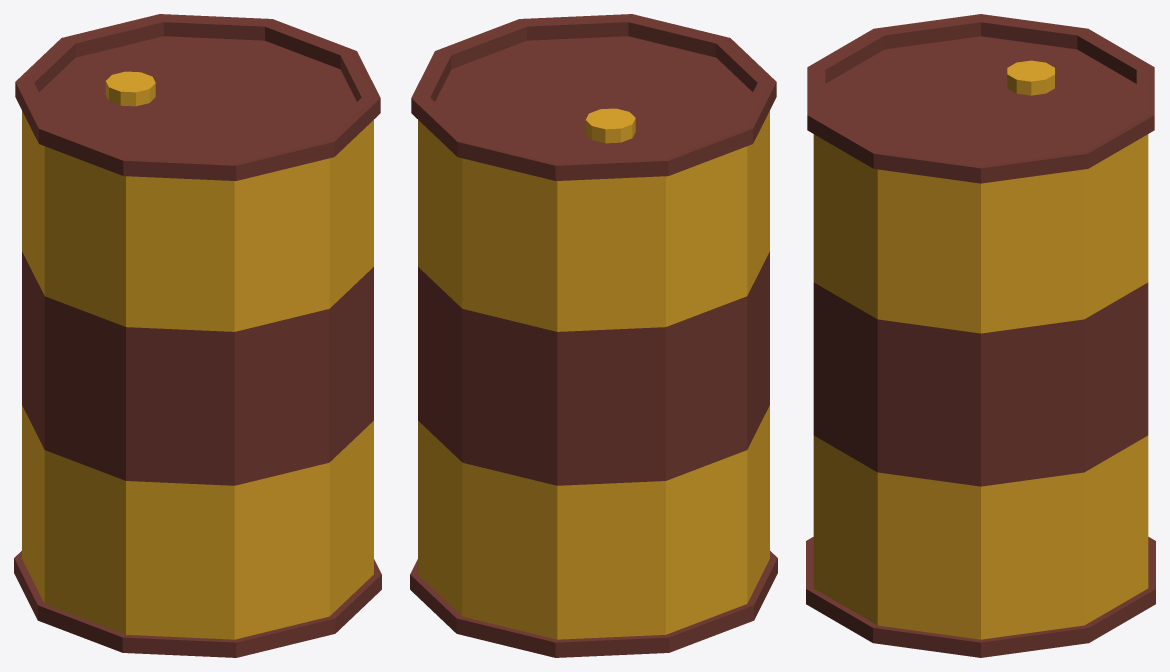
The model's file is Me_Oil.fbx.
3 views of the same model, side by side, from view 1: azimuth 30°, elevation 25°; view 2: azimuth 150°, elevation 25°; view 3: azimuth 270°, elevation 25° (orthographic).
Parts seen in each view (by area): view 1: Me_Oil; view 2: Me_Oil; view 3: Me_Oil.
Part boxes in pixels (<box>): Me_Oil: <box>14,14,381,657</box>; Me_Oil: <box>410,14,777,657</box>; Me_Oil: <box>806,14,1155,657</box>.
Size of the model in its own units: 437 by 416 by 641.
